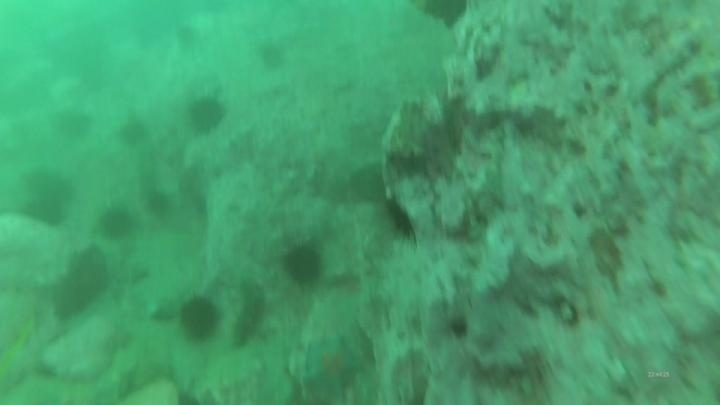echinus: (176, 293, 224, 345), (280, 241, 326, 289), (184, 93, 228, 137), (66, 247, 112, 289), (50, 279, 96, 321), (346, 164, 389, 207), (27, 159, 72, 200), (382, 197, 421, 244), (21, 193, 69, 229), (418, 1, 472, 31), (96, 204, 137, 243), (52, 107, 95, 143), (116, 117, 151, 149), (256, 41, 289, 73), (143, 188, 174, 220), (172, 22, 201, 53)
holothurian: (227, 280, 269, 351)
starfish: (299, 333, 366, 403)
